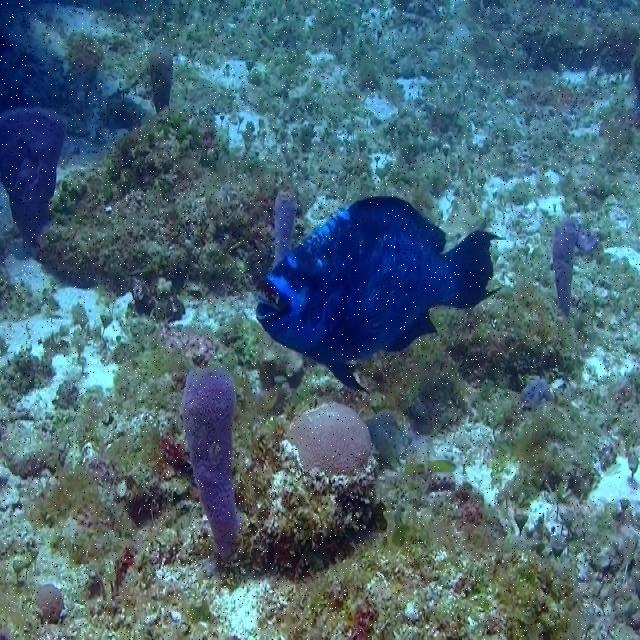fish: (255, 194, 506, 391)
reefs: (179, 365, 240, 558), (1, 106, 64, 239), (286, 403, 371, 477), (553, 218, 577, 316), (149, 48, 176, 115), (273, 190, 297, 261)
